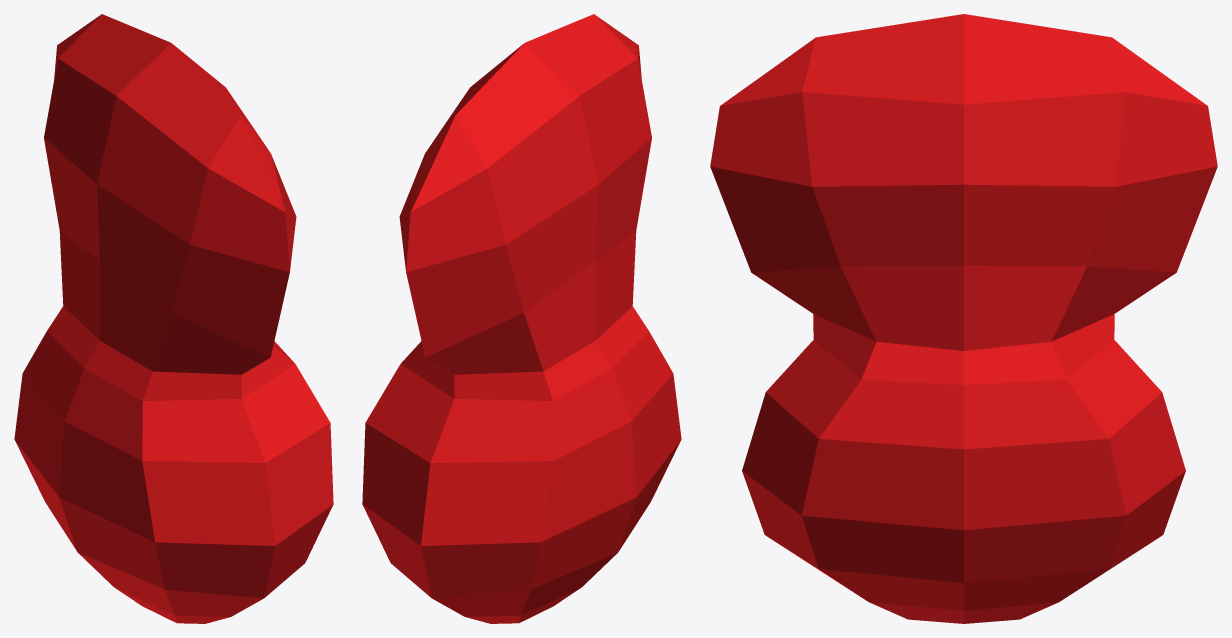
File: S_red.fbx
The picture shows the model from 3 angles, left to right: view 1: azimuth 30°, elevation 25°; view 2: azimuth 150°, elevation 25°; view 3: azimuth 270°, elevation 25°; orthographic projection. The views are drawn at different scales.
Visible parts, largest first — view 1: S_red; view 2: S_red; view 3: S_red.
Boxes of the visible parts, x1,y1,x2,y2 form: S_red: (14, 14, 333, 623); S_red: (362, 14, 681, 623); S_red: (710, 14, 1217, 623).
Bounding box in the file's own units: 8.33 × 19.85 × 15.1.
